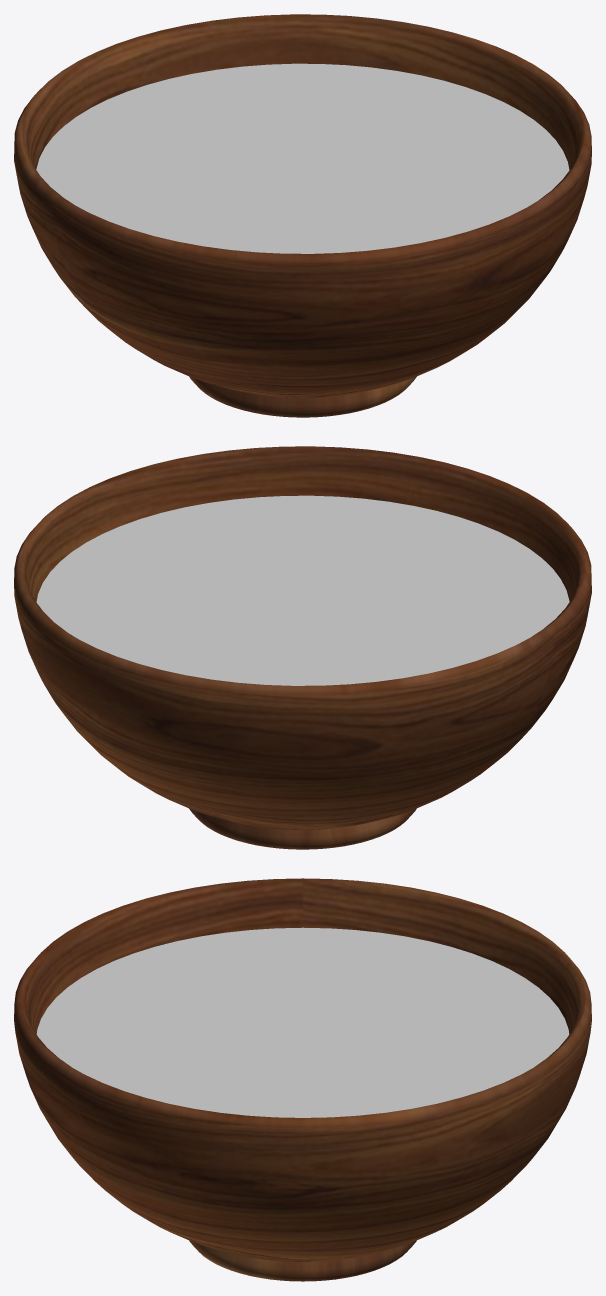
File: SM_Bowl_Soup.fbx
3 views of the same model, one above another, from view 1: azimuth 30°, elevation 25°; view 2: azimuth 150°, elevation 25°; view 3: azimuth 270°, elevation 25° (orthographic).
Visible parts, largest first — view 1: T_Bowl_Soup; view 2: T_Bowl_Soup; view 3: T_Bowl_Soup.
Part boxes in pixels (x1=…): T_Bowl_Soup: x1=14, y1=14, x2=591, y2=417; T_Bowl_Soup: x1=14, y1=446, x2=591, y2=849; T_Bowl_Soup: x1=14, y1=878, x2=591, y2=1281.
Bounding box in the file's own units: 64.06 × 29.86 × 64.06.
